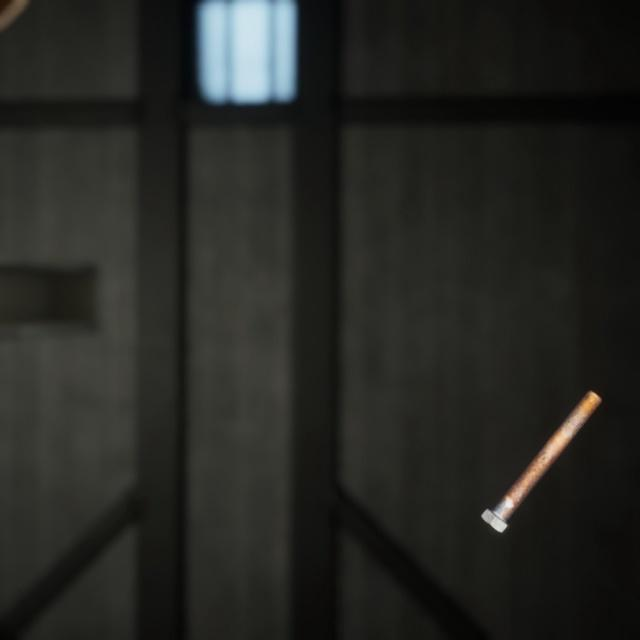bolt: (476, 365, 606, 517)
